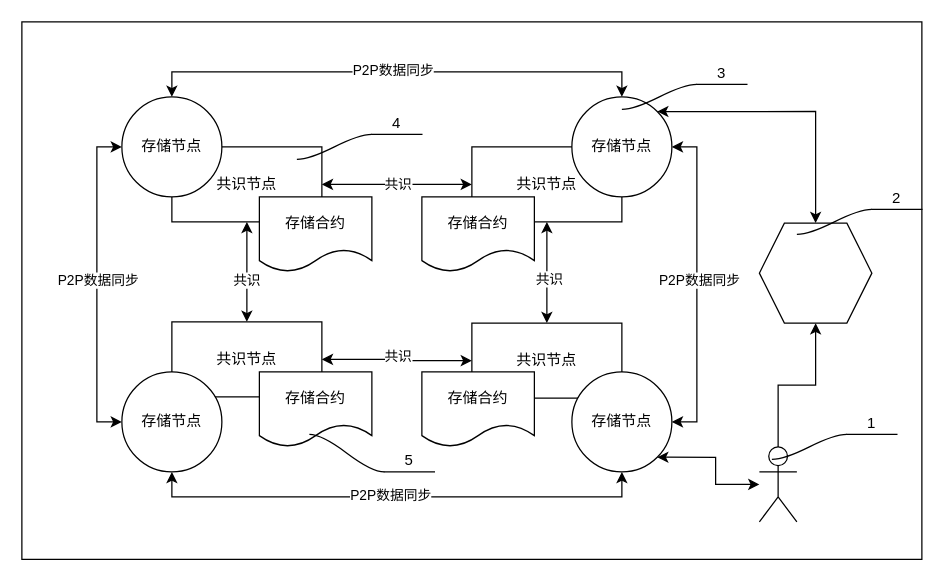
The diagram is 944 pixels wide and 581 high, and some of its shapes have lost their labels. The shapes that lost their labels are listed below. From the top down, each one's box as (x1, y1, x2, y2) in pixels, then its label:
(758, 222, 872, 323): 控制台
(758, 446, 797, 522): 用户端
